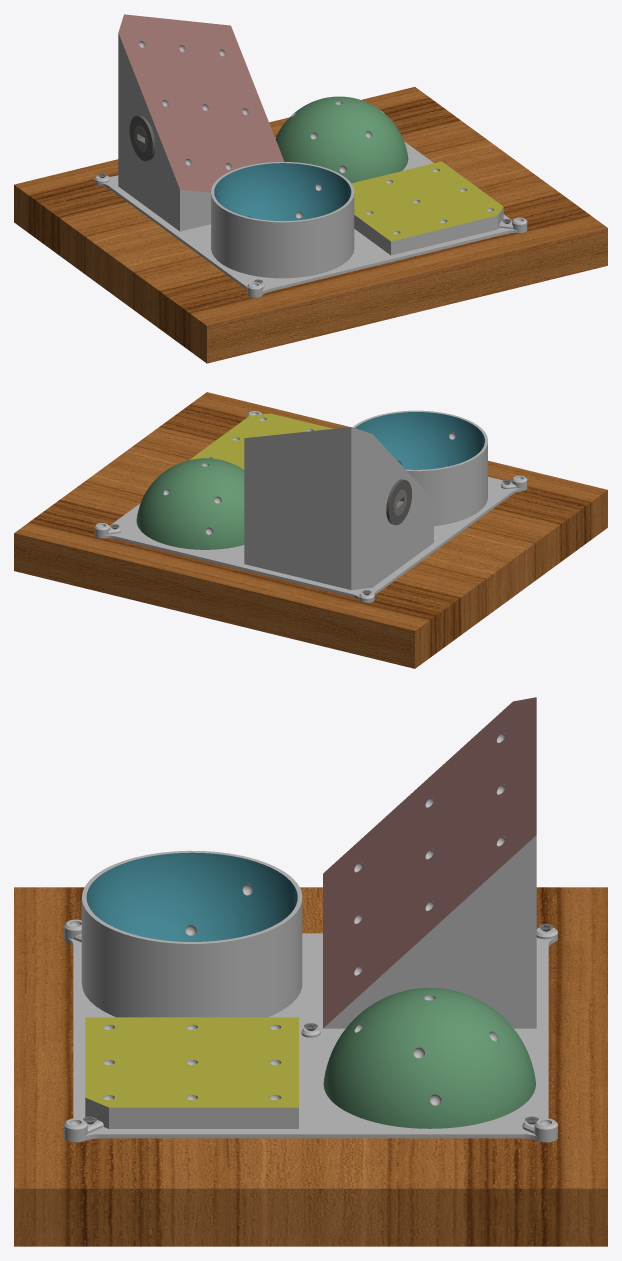
Rendered from tooltip-artifact.glb.
3 views of the same model, one above another, from view 1: azimuth 30°, elevation 25°; view 2: azimuth 150°, elevation 25°; view 3: azimuth 270°, elevation 25° (orthographic). The views are drawn at different scales.
Visible parts, largest first — view 1: Artefact_2_unione_corpi-1, Artefact_0_base-1, Adattatore_ArUco_femmina-1; view 2: Artefact_0_base-1, Artefact_2_unione_corpi-1, Adattatore_ArUco_femmina-1; view 3: Artefact_2_unione_corpi-1, Artefact_0_base-1.
Part boxes in pixels (x1,y1,x2,y2): Artefact_2_unione_corpi-1: [94, 14, 527, 297]; Artefact_0_base-1: [14, 87, 607, 363]; Adattatore_ArUco_femmina-1: [129, 115, 155, 161]; Artefact_0_base-1: [14, 392, 607, 668]; Artefact_2_unione_corpi-1: [94, 410, 527, 602]; Adattatore_ArUco_femmina-1: [386, 479, 411, 525]; Artefact_2_unione_corpi-1: [64, 697, 557, 1142]; Artefact_0_base-1: [14, 887, 607, 1246].
Bounding box in the file's own units: 0.3 × 0.1457 × 0.25.
9 materials, 1 textured.
